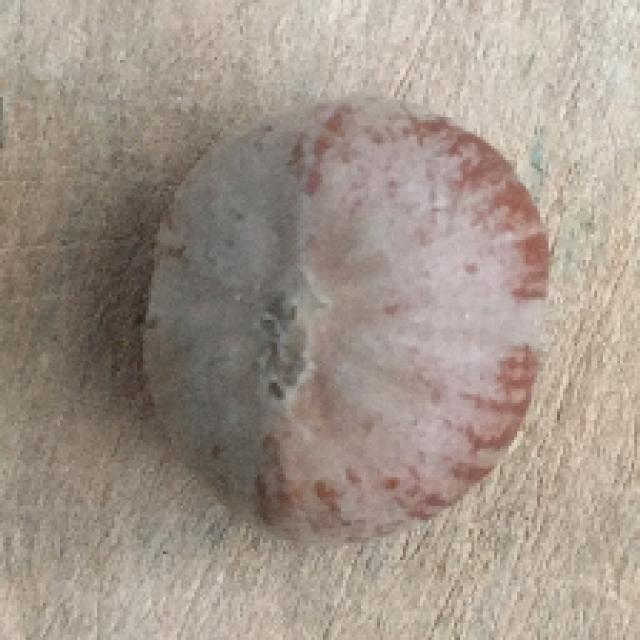qualityHazelnut: (134, 88, 553, 545)
